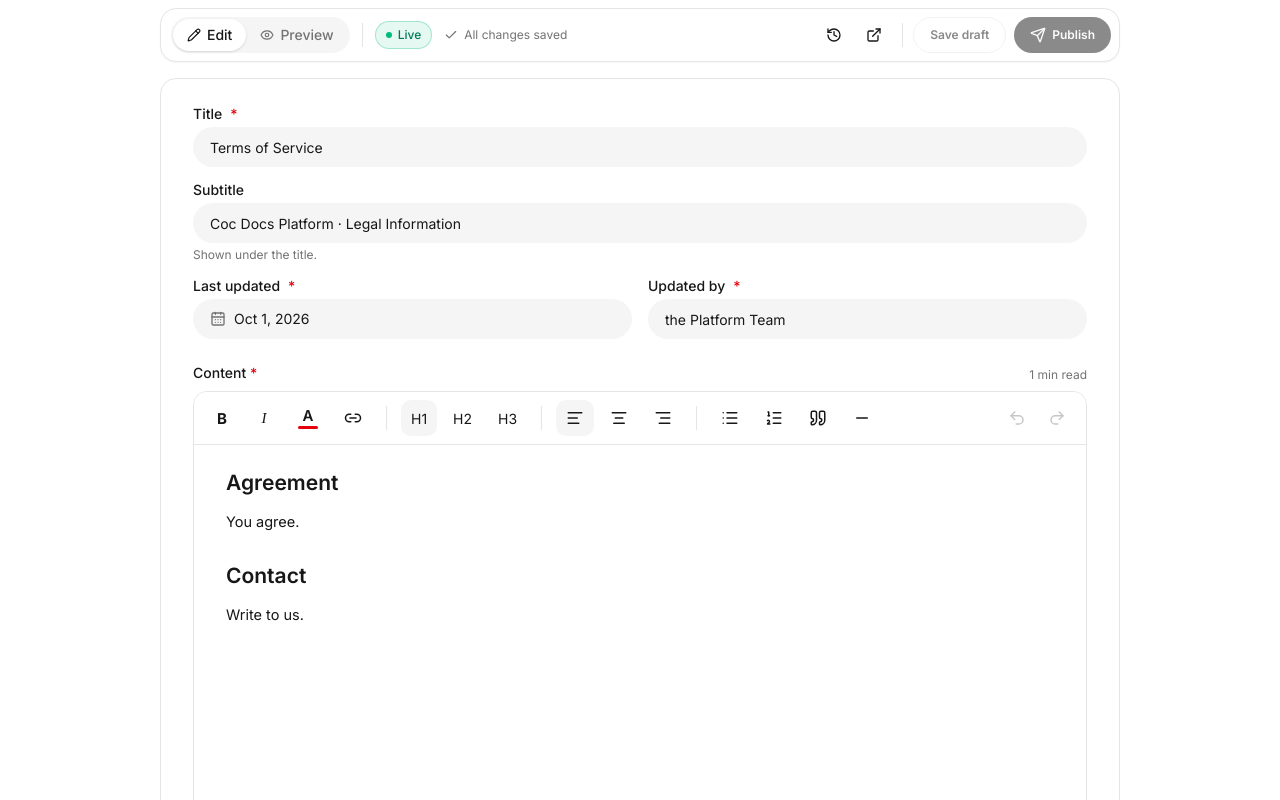
Test: LegalPageEditor › does not publish when saving first fails
In the field showing "Terms of Service": (640, 147) [193,127,1087,167], type "!"
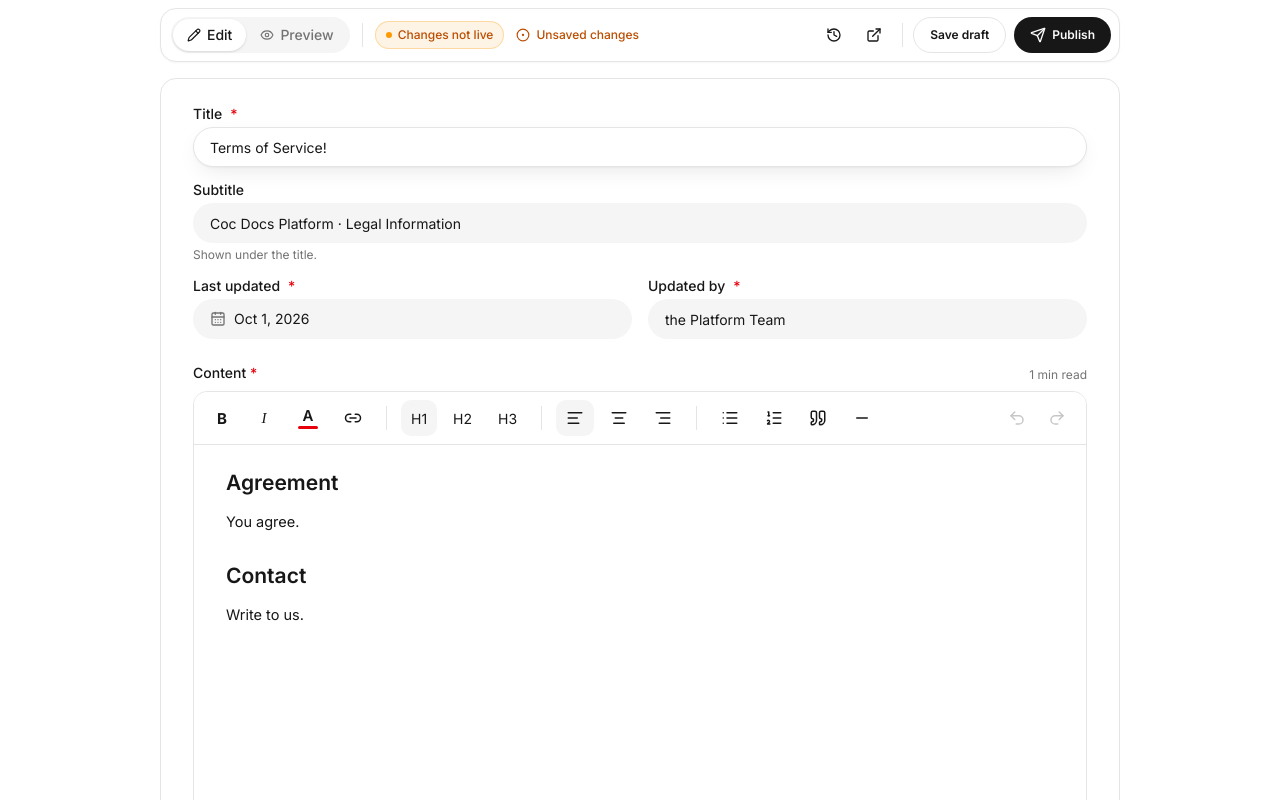
Click the button "Publish": click(1063, 35) [1014,17,1111,53]
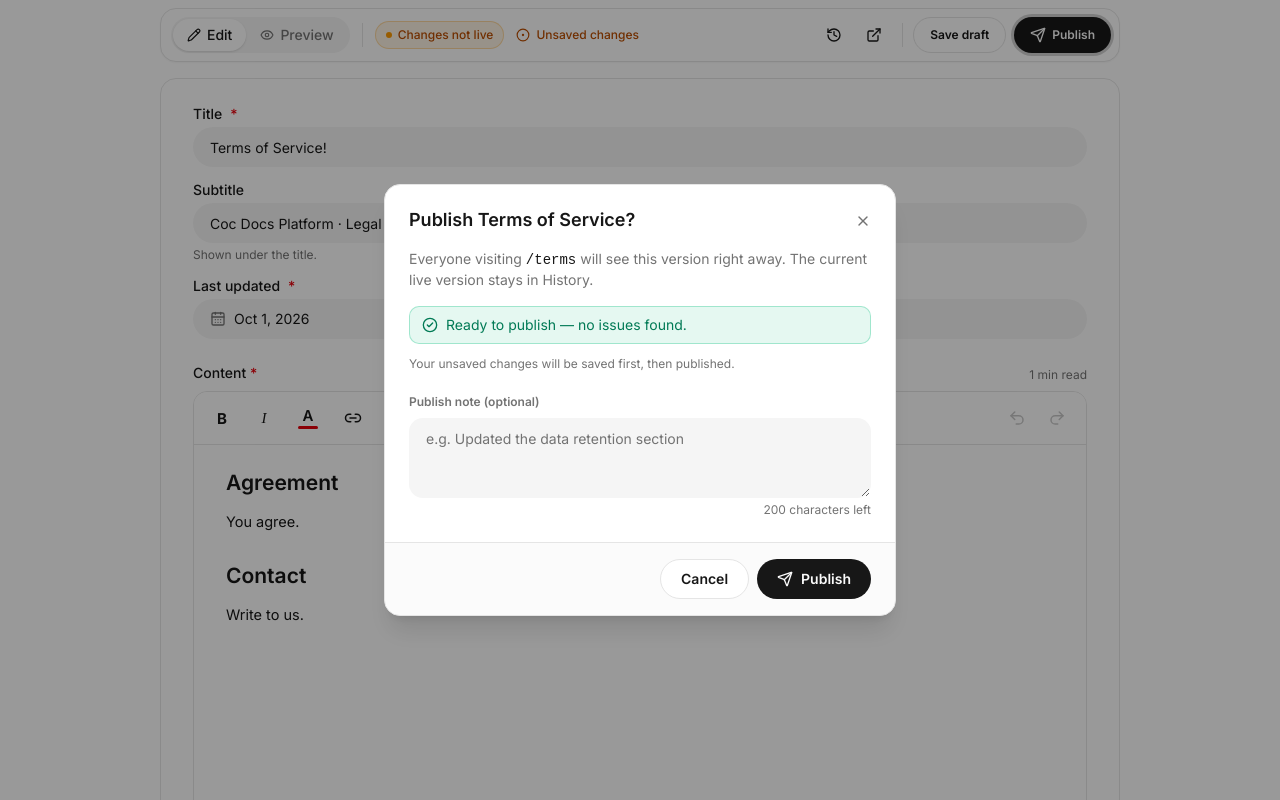
Click the button "Publish": click(814, 579) [757,559,871,599]
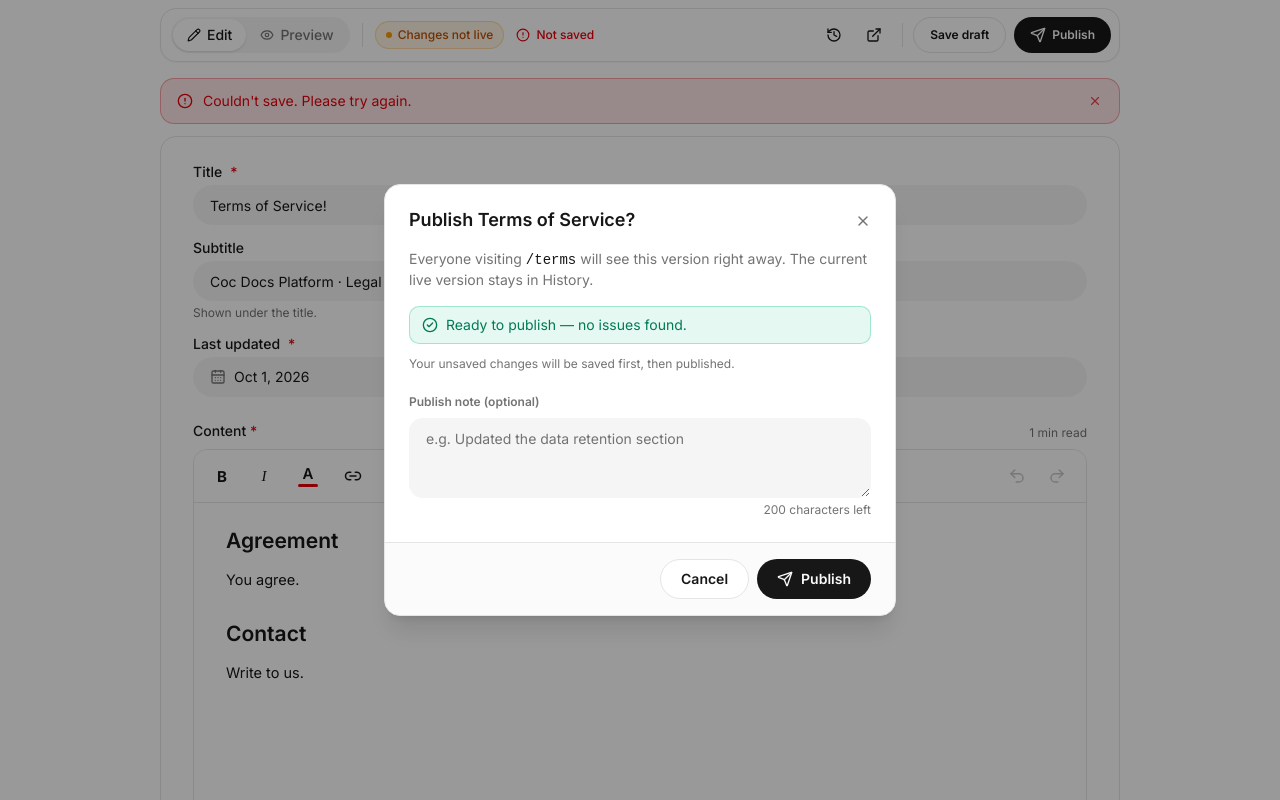
Now the text "Couldn't save. Please try again." is shown, box [203,92,412,109]
